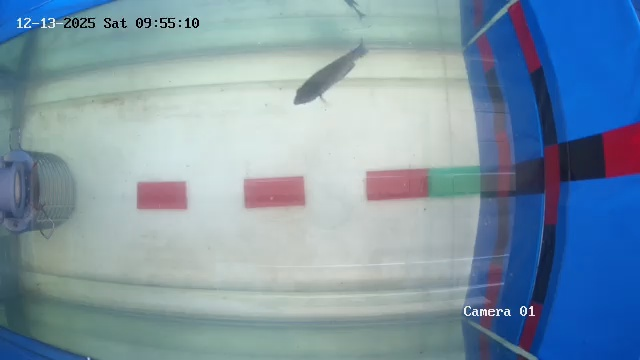fish: (286, 38, 363, 119)
